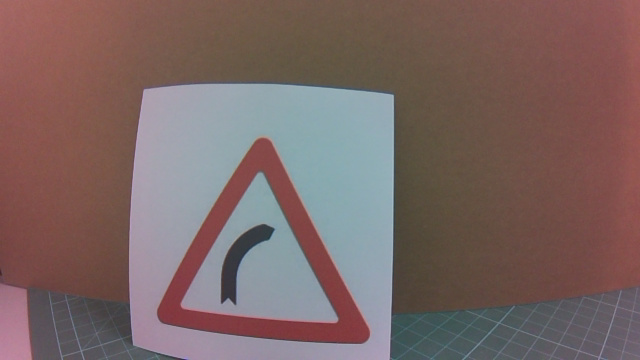right: (172, 167, 380, 335)
